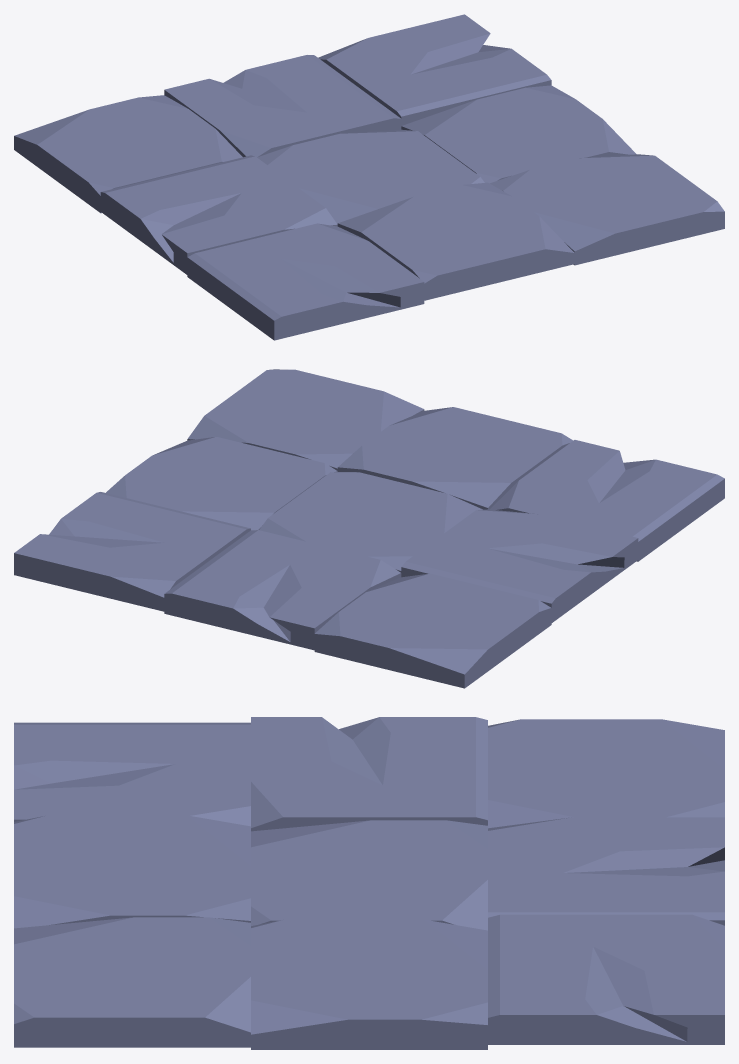
File: Floor.fbx
The picture shows the model from 3 angles, top to bottom: view 1: azimuth 30°, elevation 25°; view 2: azimuth 150°, elevation 25°; view 3: azimuth 270°, elevation 25°; orthographic projection. The views are drawn at different scales.
Visible parts, largest first — view 1: Floor; view 2: Floor; view 3: Floor.
Part boxes in pixels (left/top/right/bottom): Floor: left=14, top=14, right=724, bottom=340; Floor: left=14, top=369, right=724, bottom=688; Floor: left=14, top=717, right=724, bottom=1049.
Bounding box in the file's own units: 3 × 0.1672 × 3.
